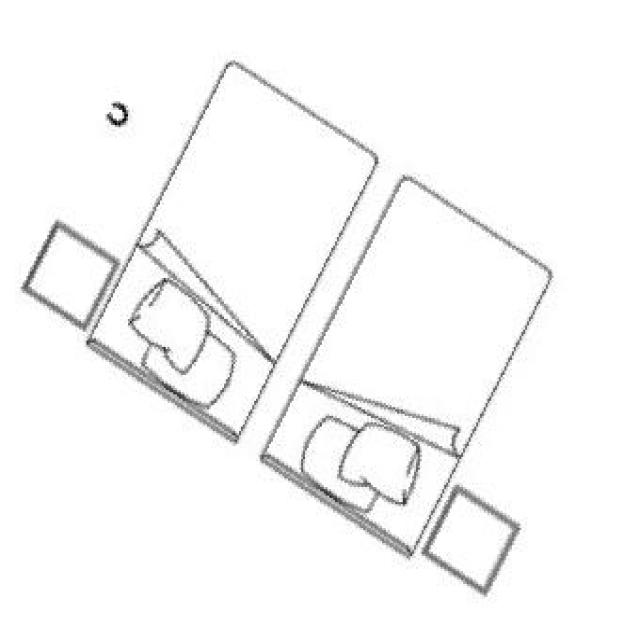bed: (18, 60, 550, 590)
